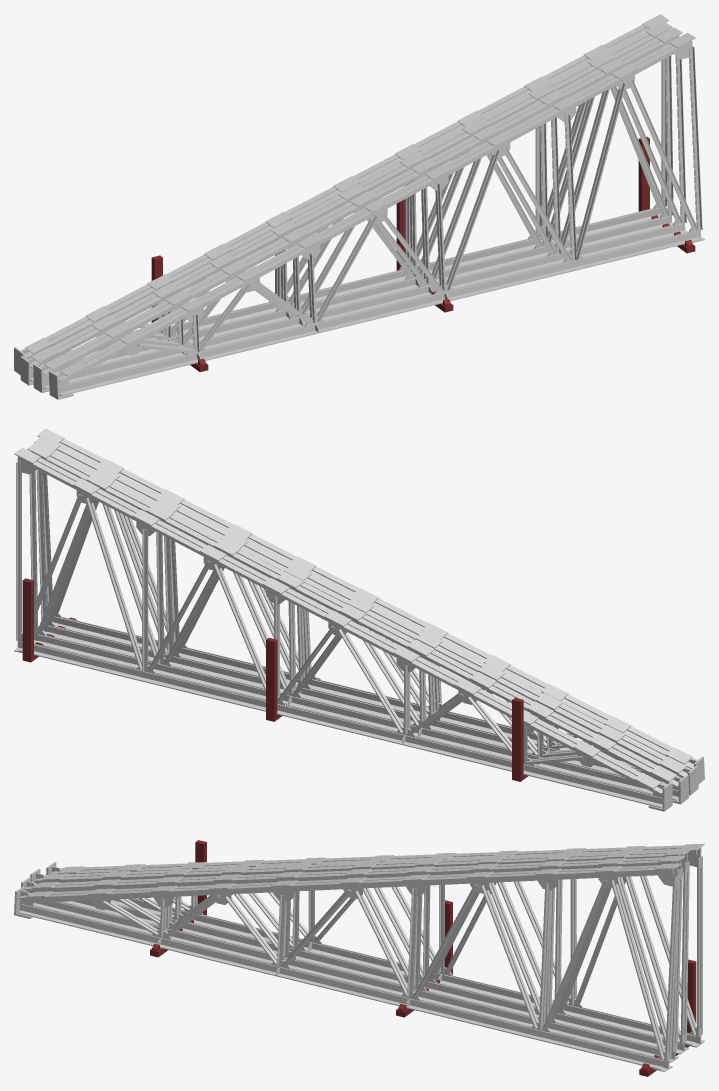
File: SM_Truss03Pack.fbx
3 renders of one model, top to bottom at view 1: azimuth 30°, elevation 25°; view 2: azimuth 150°, elevation 25°; view 3: azimuth 330°, elevation 25°, orthographic.
Parts seen in each view (by area): view 1: Truss03PackConstr, Truss03PackBeams; view 2: Truss03PackConstr, Truss03PackBeams; view 3: Truss03PackConstr, Truss03PackBeams.
Boxes of the visible parts, <box> form: Truss03PackConstr: <box>14,14,704,399</box>; Truss03PackBeams: <box>151,136,695,372</box>; Truss03PackConstr: <box>14,428,704,811</box>; Truss03PackBeams: <box>22,578,528,781</box>; Truss03PackConstr: <box>14,843,704,1071</box>; Truss03PackBeams: <box>150,840,696,1076</box>.
Bounding box in the file's own units: 1515 × 447 × 194.
